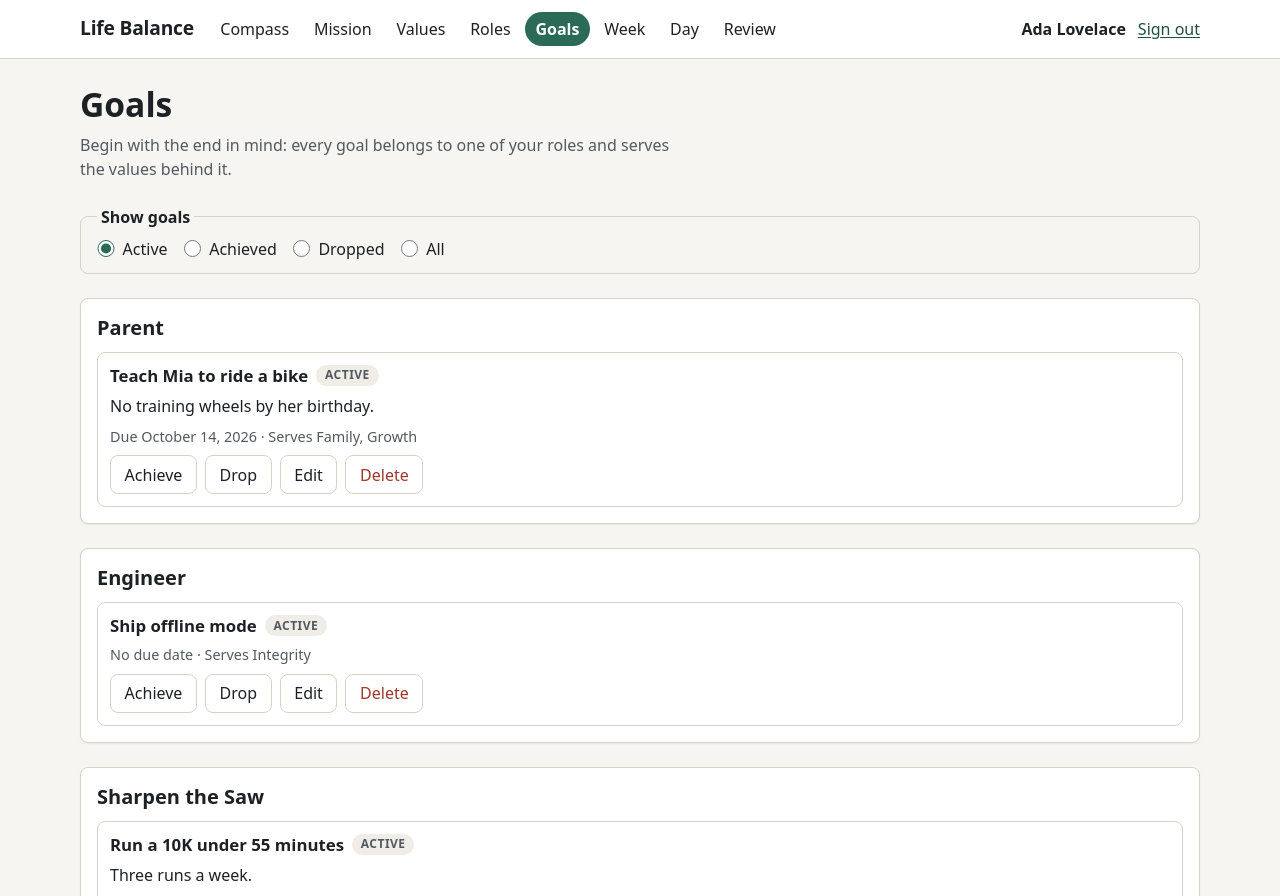
Scenario: achieves, reopens and drops a goal
Click the button named "Achieve Ship offline mode". click: (154, 693)
box: [110, 674, 197, 713]
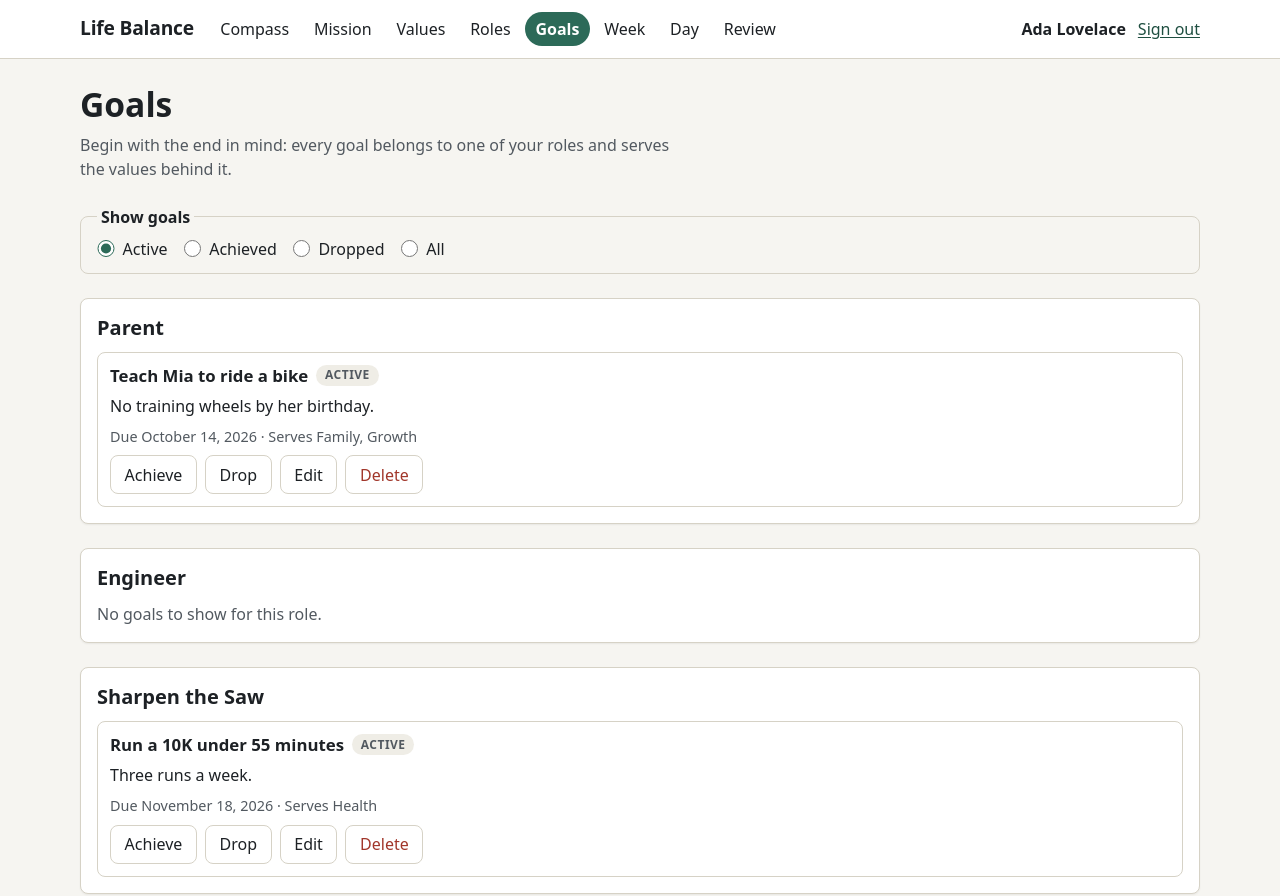
Click the radio button labelled "All". click: (409, 249)
box: [401, 240, 418, 257]
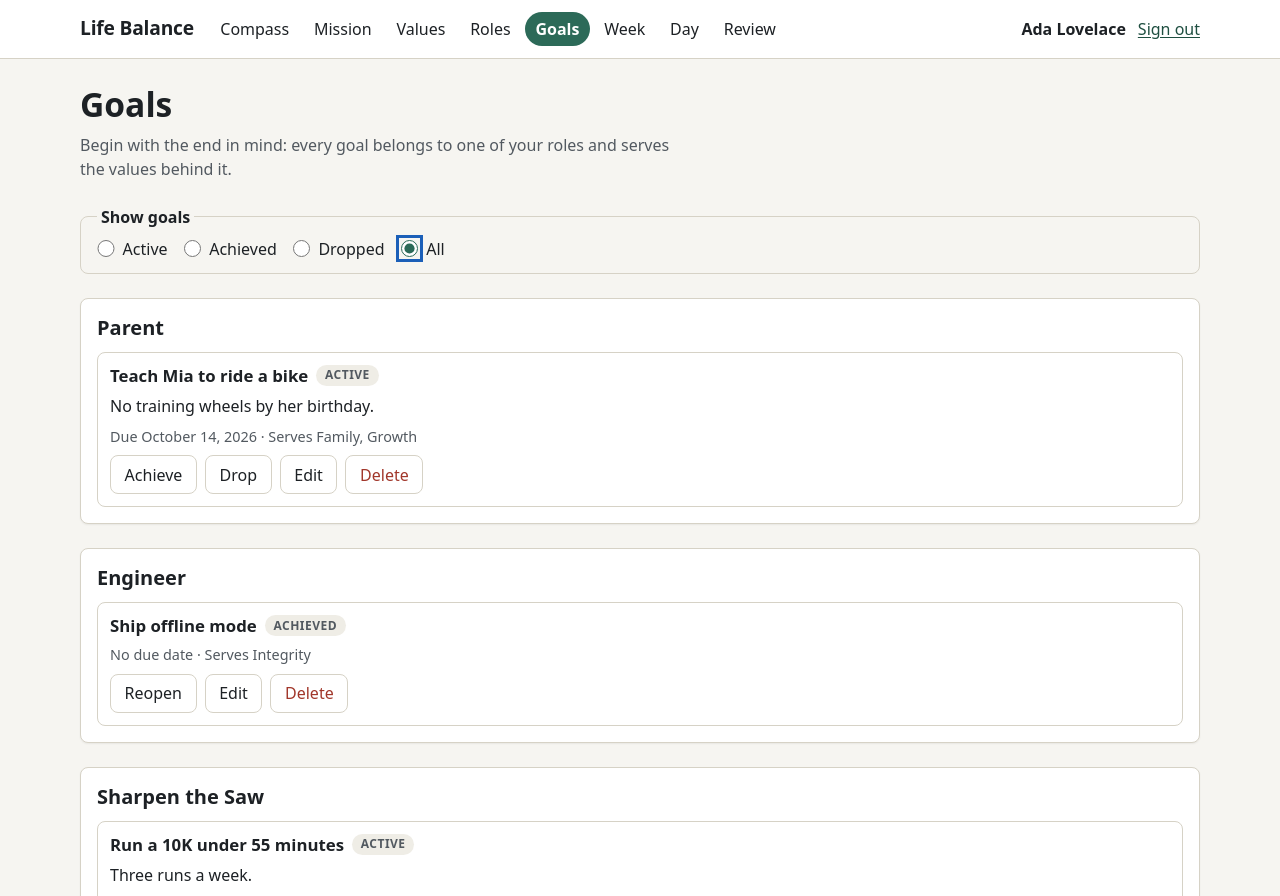
Check: the text "Achieved" is shown, box [274, 617, 337, 634]
Click the button named "Reopen Ship offline mode". click: (153, 693)
box: [110, 674, 197, 713]
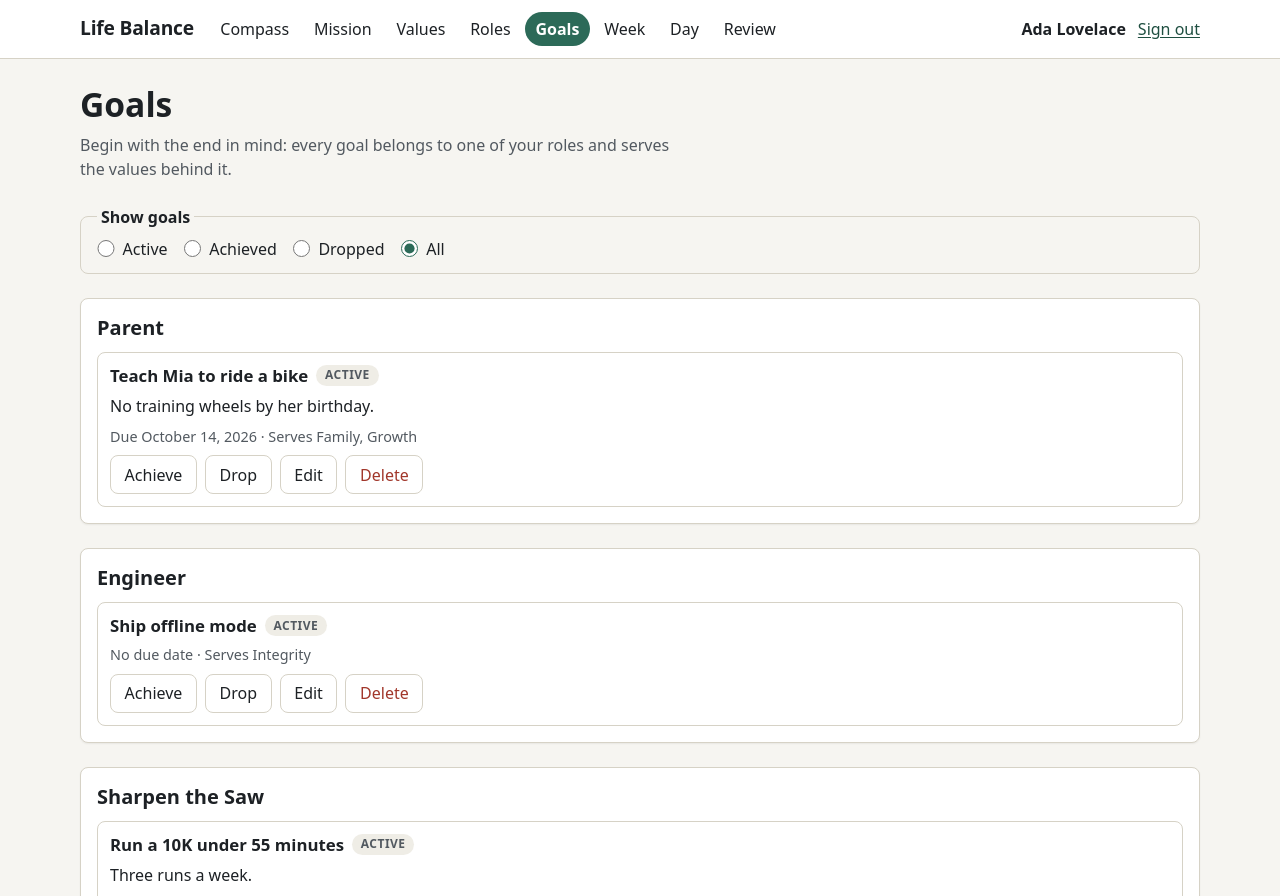
Check: the button named "Drop Ship offline mode" is shown
Check: the text "Active" next to "Ship offline mode" is shown, box [274, 617, 318, 634]
Click the button named "Drop Ship offline mode". click: (238, 693)
box: [205, 674, 272, 713]
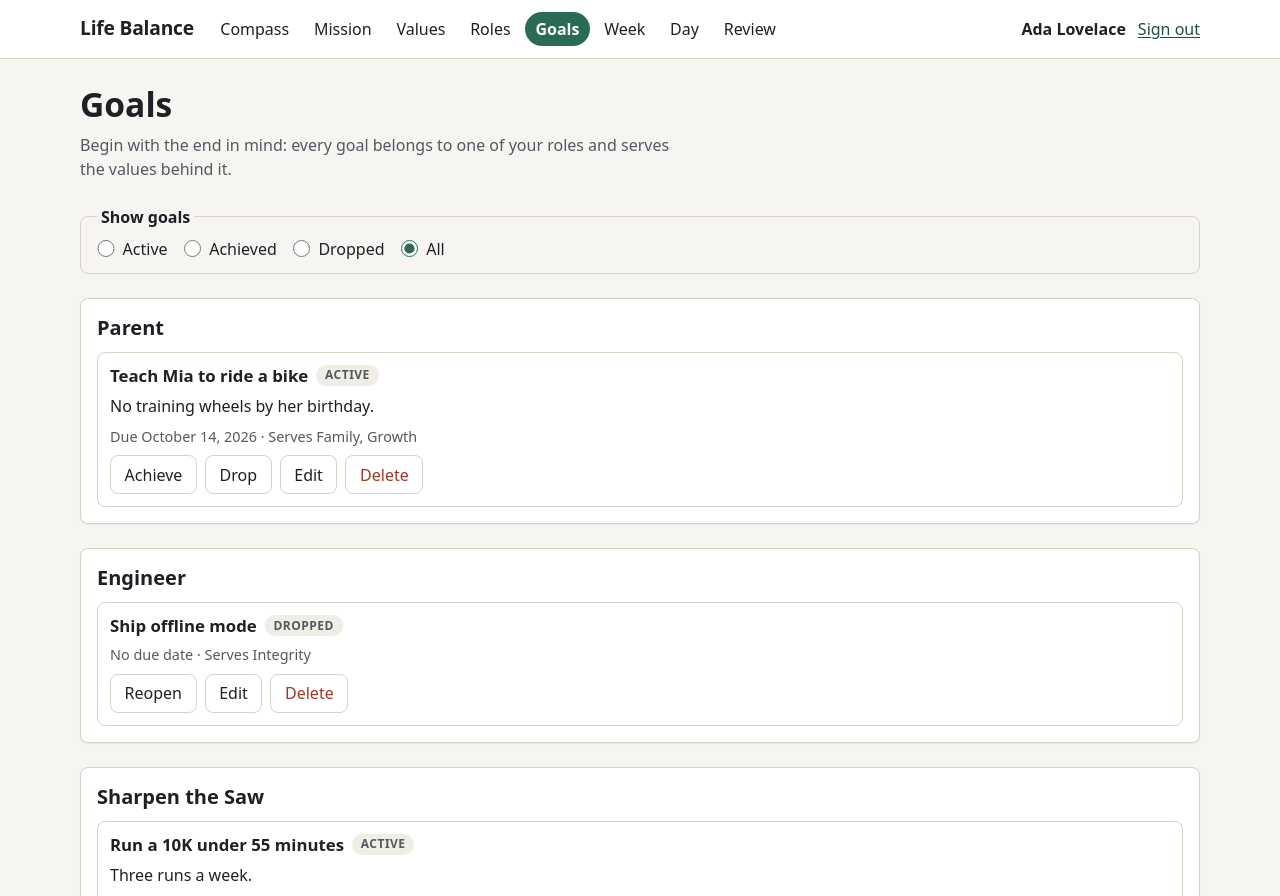
Check: the text "Dropped" is shown, box [274, 617, 334, 634]
